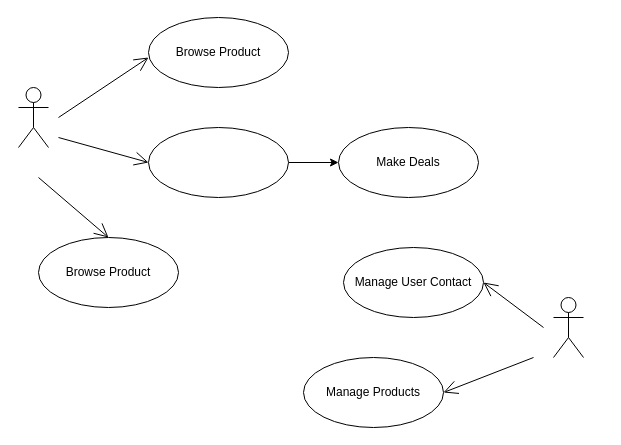
Some shapes in this 621 by 445 pixel diagram are drawn without their labels. The box of each missing label's shape, as (x1, y1, x2, y2) in pixels:
Administrator: (552, 296, 584, 358)
Contact Company: (148, 126, 288, 198)
Visitor: (18, 86, 48, 148)
